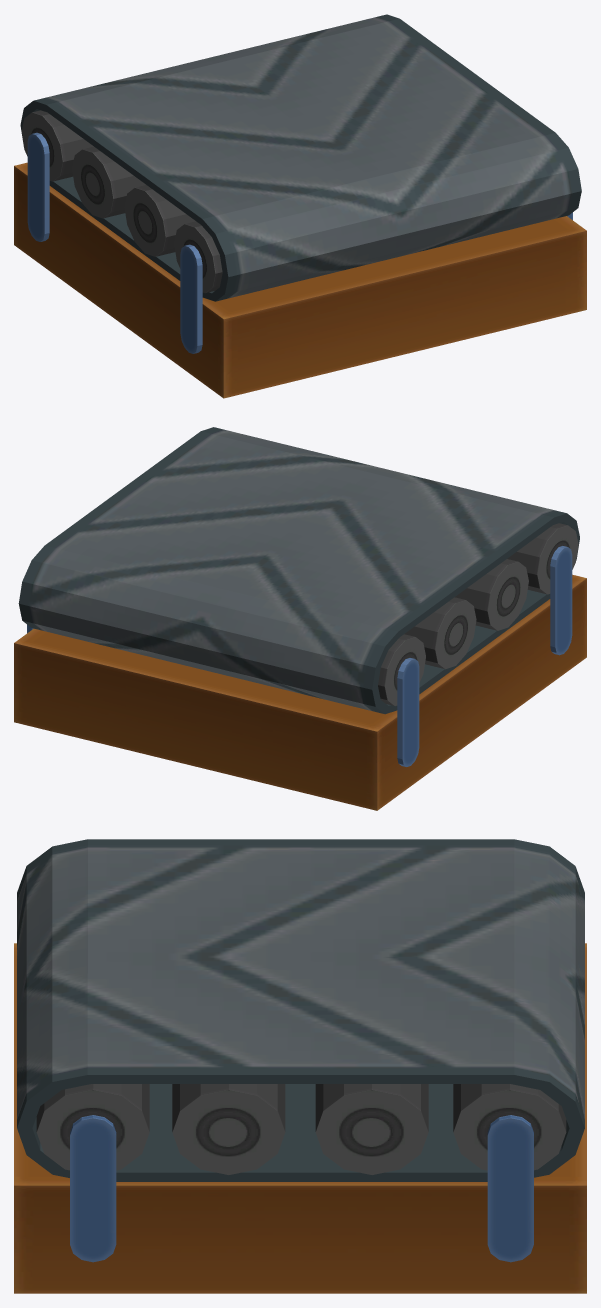
Rendered from ConveyorStation 1.obj.
3 views of the same model, one above another, from view 1: azimuth 30°, elevation 25°; view 2: azimuth 150°, elevation 25°; view 3: azimuth 270°, elevation 25° (orthographic). The views are drawn at different scales.
Parts seen in each view (by area): view 1: ConveyorBelt; view 2: ConveyorBelt; view 3: ConveyorBelt.
Boxes of the visible parts, x1,y1,x2,y2 form: ConveyorBelt: (14,14,586,398); ConveyorBelt: (14,427,586,810); ConveyorBelt: (14,839,586,1293).
Bounding box in the file's own units: 1.24 × 0.4995 × 1.2.
Materials: 2 (2 with a texture image).
